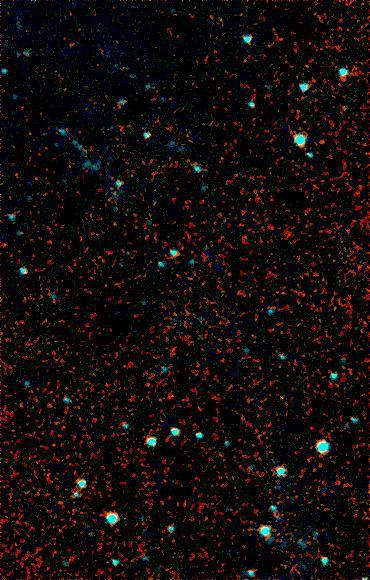star: (307, 126, 337, 156)
